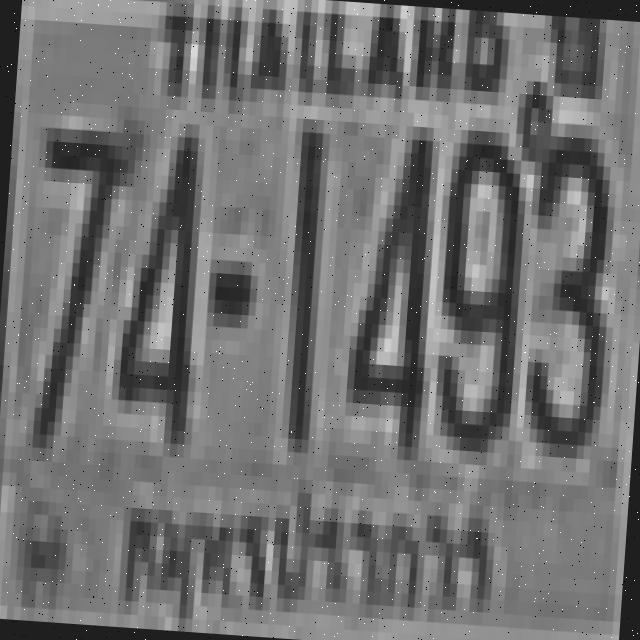1: (278, 118, 328, 439)
3: (515, 121, 620, 446)
4: (339, 122, 437, 446), (108, 120, 206, 444)
7: (18, 107, 138, 446)
9: (429, 122, 527, 446)
SamutPrakan: (110, 464, 508, 640)
